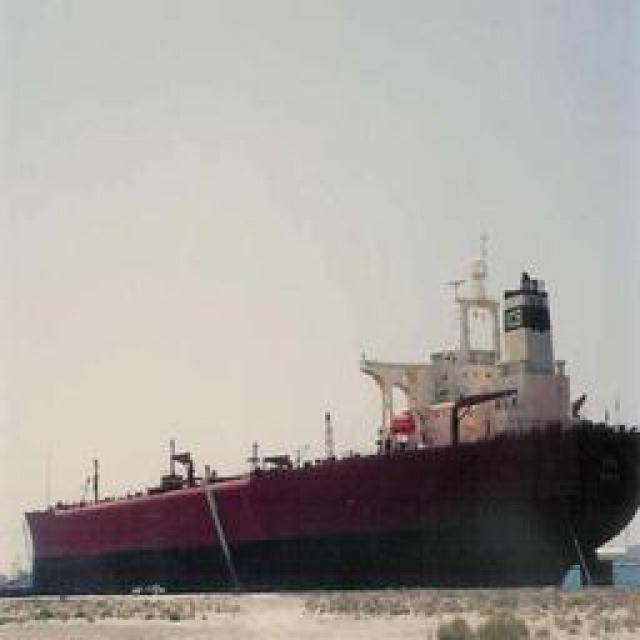Ship: (31, 428, 640, 589)
